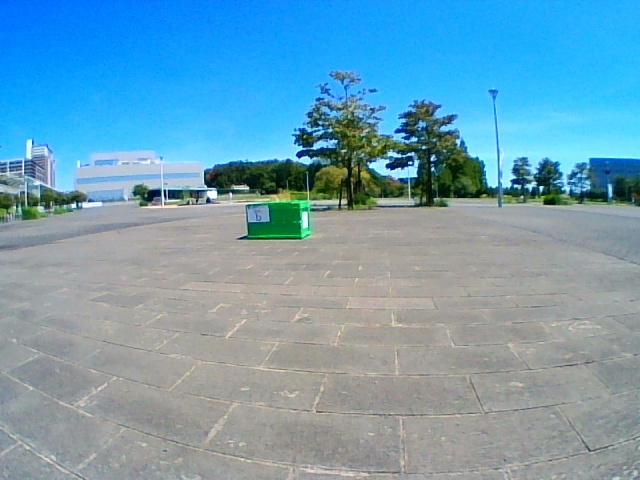green_box: (245, 200, 310, 239)
tag_b: (246, 204, 269, 222)
